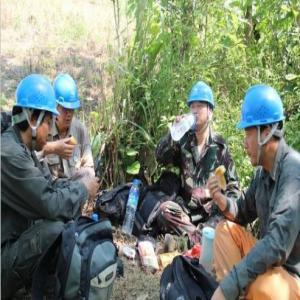blue: (239, 80, 287, 172), (16, 76, 53, 153), (52, 71, 80, 130), (187, 79, 215, 135)
